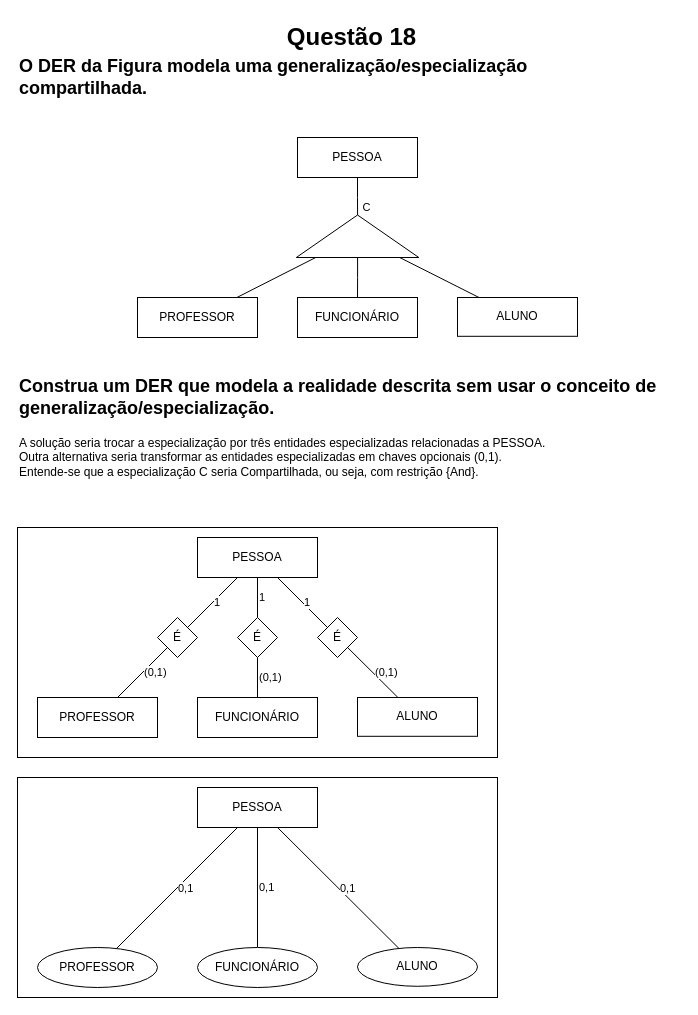
Some shapes in this 698 by 1015 pixel diagram are drawn without their labels. The box of each missing label's shape, as (x1, y1, x2, y2) in pixels:
Chave Opcional: (16, 776, 498, 998)
Relacionamento: (16, 526, 498, 758)
